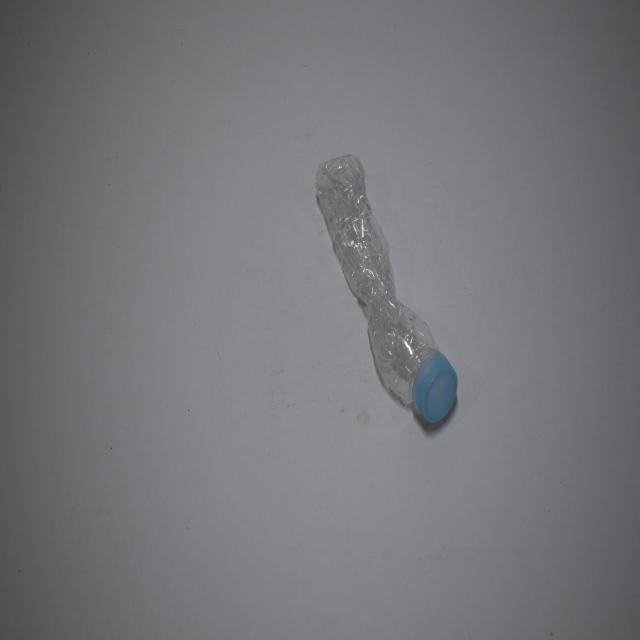bottle: (312, 154, 458, 434)
